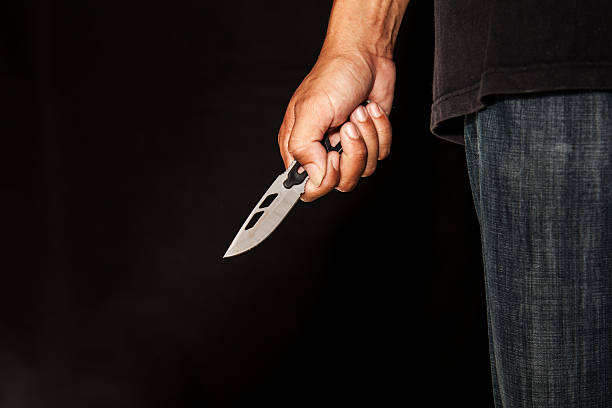knife: (222, 127, 344, 260)
